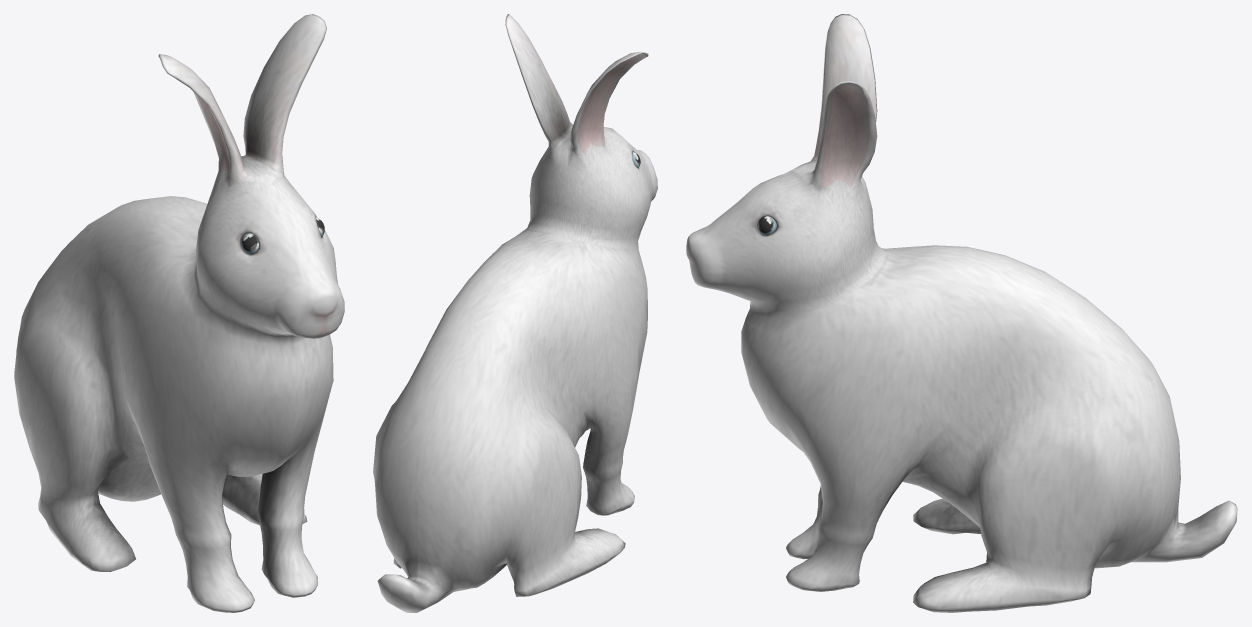
Rendered from sweethome3d-scopia-rabbit.glb.
3 renders of one model, left to right at view 1: azimuth 30°, elevation 25°; view 2: azimuth 150°, elevation 25°; view 3: azimuth 270°, elevation 25°, orthographic. The views are drawn at different scales.
Visible parts, largest first — view 1: Plane; view 2: Plane; view 3: Plane.
Part boxes in pixels (x1=…): Plane: x1=14, y1=14, x2=344, y2=612; Plane: x1=373, y1=14, x2=657, y2=612; Plane: x1=686, y1=14, x2=1237, y2=612.
Size of the model in its own units: 17.89 by 42.91 by 41.29.
1 material, 1 textured.
